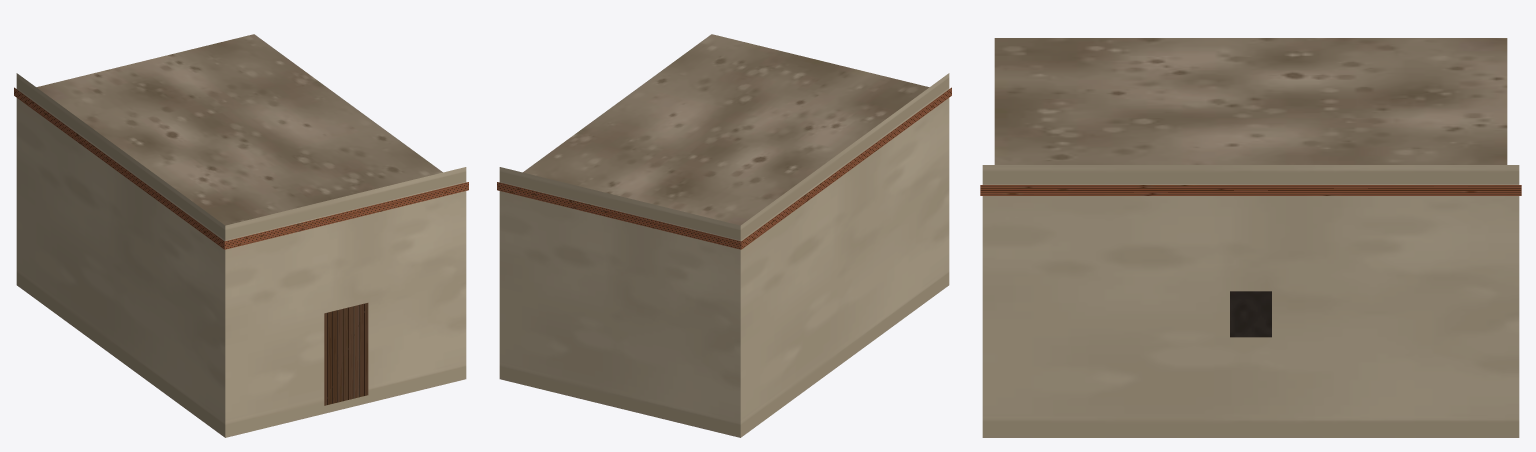
Rendered from ae_sand_stone_large_hall_lod2.glb.
3 views of the same model, side by side, from view 1: azimuth 30°, elevation 25°; view 2: azimuth 150°, elevation 25°; view 3: azimuth 270°, elevation 25° (orthographic). The views are drawn at different scales.
Visible parts, largest first — view 1: ae_sand_stone_large_hall_lod2; view 2: ae_sand_stone_large_hall_lod2; view 3: ae_sand_stone_large_hall_lod2.
Boxes of the visible parts, x1,y1,x2,y2 form: ae_sand_stone_large_hall_lod2: [14, 34, 468, 437]; ae_sand_stone_large_hall_lod2: [497, 34, 951, 437]; ae_sand_stone_large_hall_lod2: [980, 38, 1521, 437].
Bounding box in the file's own units: 6.08 × 5.05 × 9.08.
1 material, 1 textured.
